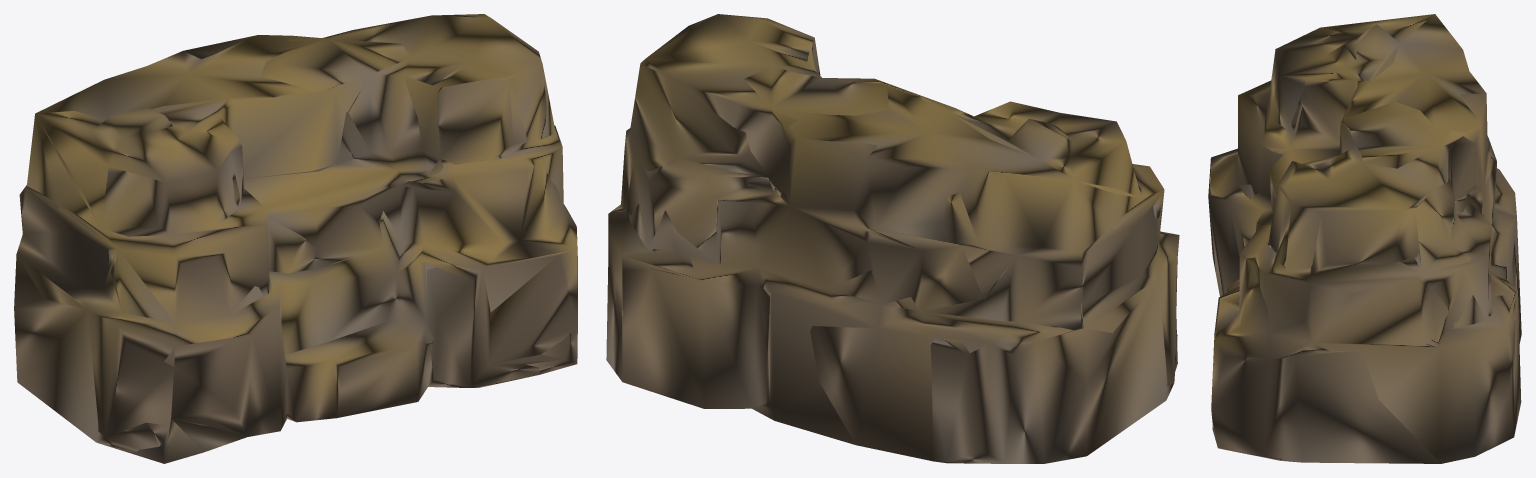
The model's file is gen3d-layered-canyon-rock-lod1.glb.
The picture shows the model from 3 angles, left to right: view 1: azimuth 30°, elevation 25°; view 2: azimuth 150°, elevation 25°; view 3: azimuth 270°, elevation 25°; orthographic projection. The views are drawn at different scales.
Parts seen in each view (by area): view 1: part_0; view 2: part_0; view 3: part_0.
Part boxes in pixels (bbox=[...]): part_0: bbox=[14, 14, 577, 463]; part_0: bbox=[606, 14, 1179, 463]; part_0: bbox=[1208, 14, 1521, 463].
Size of the model in its own units: 1.77 by 0.9989 by 1.11.
